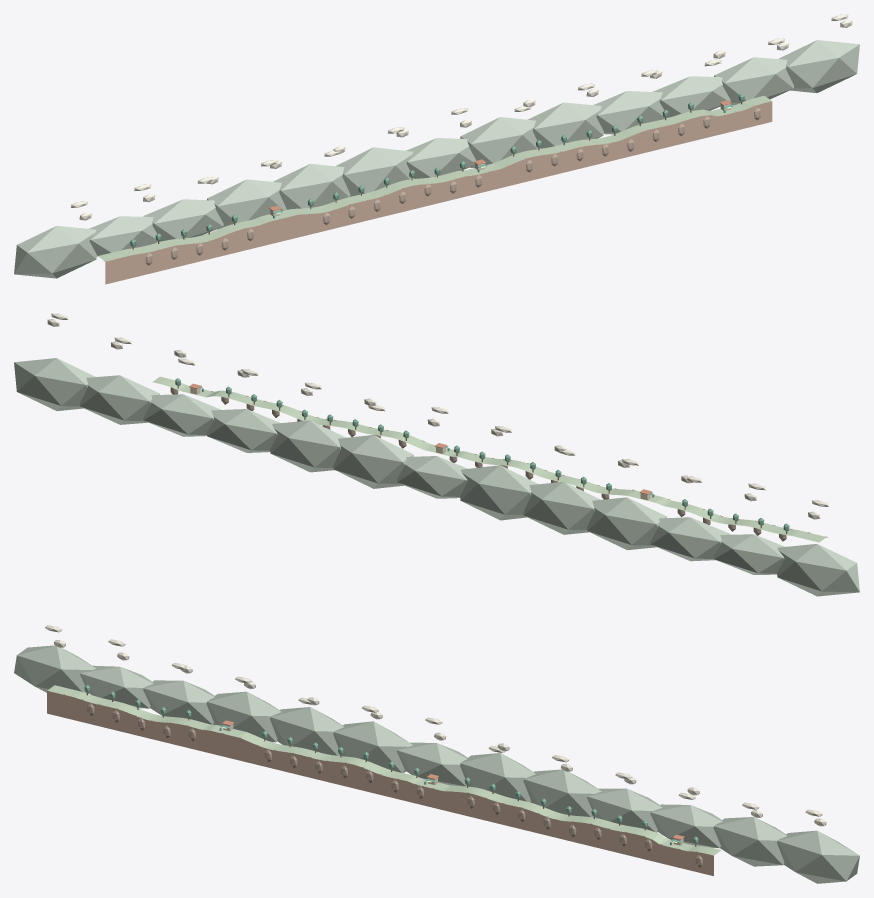
The model's file is route-harbour.glb.
The picture shows the model from 3 angles, top to bottom: view 1: azimuth 30°, elevation 25°; view 2: azimuth 150°, elevation 25°; view 3: azimuth 330°, elevation 25°; orthographic projection.
Parts seen in each view (by area): view 1: Static_Distant hills, Static_Terracotta cliffs, Static_Sage road, Static_Cream clouds, Static_Warm rocks, Static_Seafoam trees; view 2: Static_Distant hills, Static_Sage road, Static_Cream clouds, Static_Seafoam trees, Static_Warm rocks; view 3: Static_Distant hills, Static_Terracotta cliffs, Static_Sage road, Static_Cream clouds, Static_Warm rocks, Static_Seafoam trees.
Part boxes in pixels (x1,y1,x2,y2): Static_Distant hills: (14, 40, 859, 278); Static_Terracotta cliffs: (105, 101, 772, 284); Static_Sage road: (98, 95, 771, 261); Static_Cream clouds: (70, 14, 852, 220); Static_Warm rocks: (145, 108, 761, 265); Static_Seafoam trees: (130, 94, 744, 246); Static_Distant hills: (14, 358, 859, 596); Static_Sage road: (152, 376, 825, 542); Static_Cream clouds: (47, 313, 828, 519); Static_Seafoam trees: (175, 378, 789, 531); Static_Warm rocks: (170, 387, 786, 541); Static_Distant hills: (14, 645, 859, 883); Static_Terracotta cliffs: (47, 691, 713, 876); Static_Sage road: (48, 685, 721, 855); Static_Cream clouds: (45, 625, 826, 826); Static_Warm rocks: (87, 703, 702, 867); Static_Seafoam trees: (84, 684, 698, 844).
Bounding box in the file's own units: 8677 × 847 × 683.
